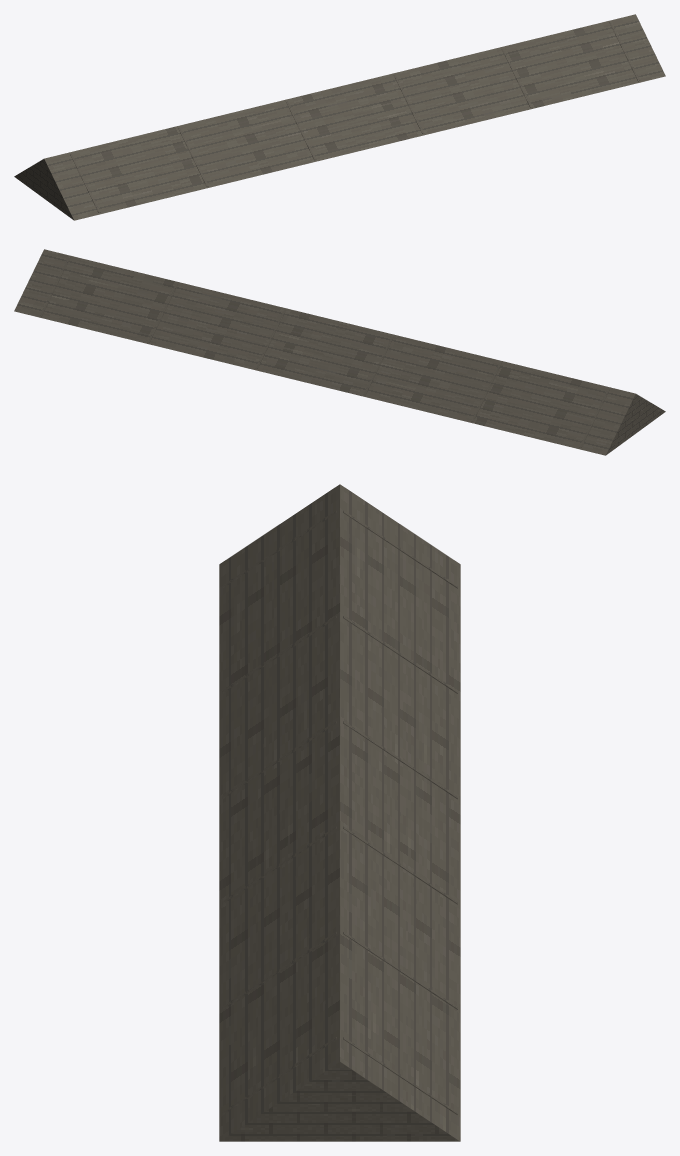
File: house_01_roof_ridge.glb
The picture shows the model from 3 angles, top to bottom: view 1: azimuth 30°, elevation 25°; view 2: azimuth 150°, elevation 25°; view 3: azimuth 270°, elevation 25°; orthographic projection. The views are drawn at different scales.
Visible parts, largest first — view 1: house_01_roof_ridge; view 2: house_01_roof_ridge; view 3: house_01_roof_ridge.
Boxes of the visible parts, x1,y1,x2,y2 form: house_01_roof_ridge: [14, 14, 665, 220]; house_01_roof_ridge: [14, 249, 665, 455]; house_01_roof_ridge: [219, 484, 460, 1141].
Size of the model in its own units: 3.4 by 0.22 by 0.6.
1 material, 1 textured.
